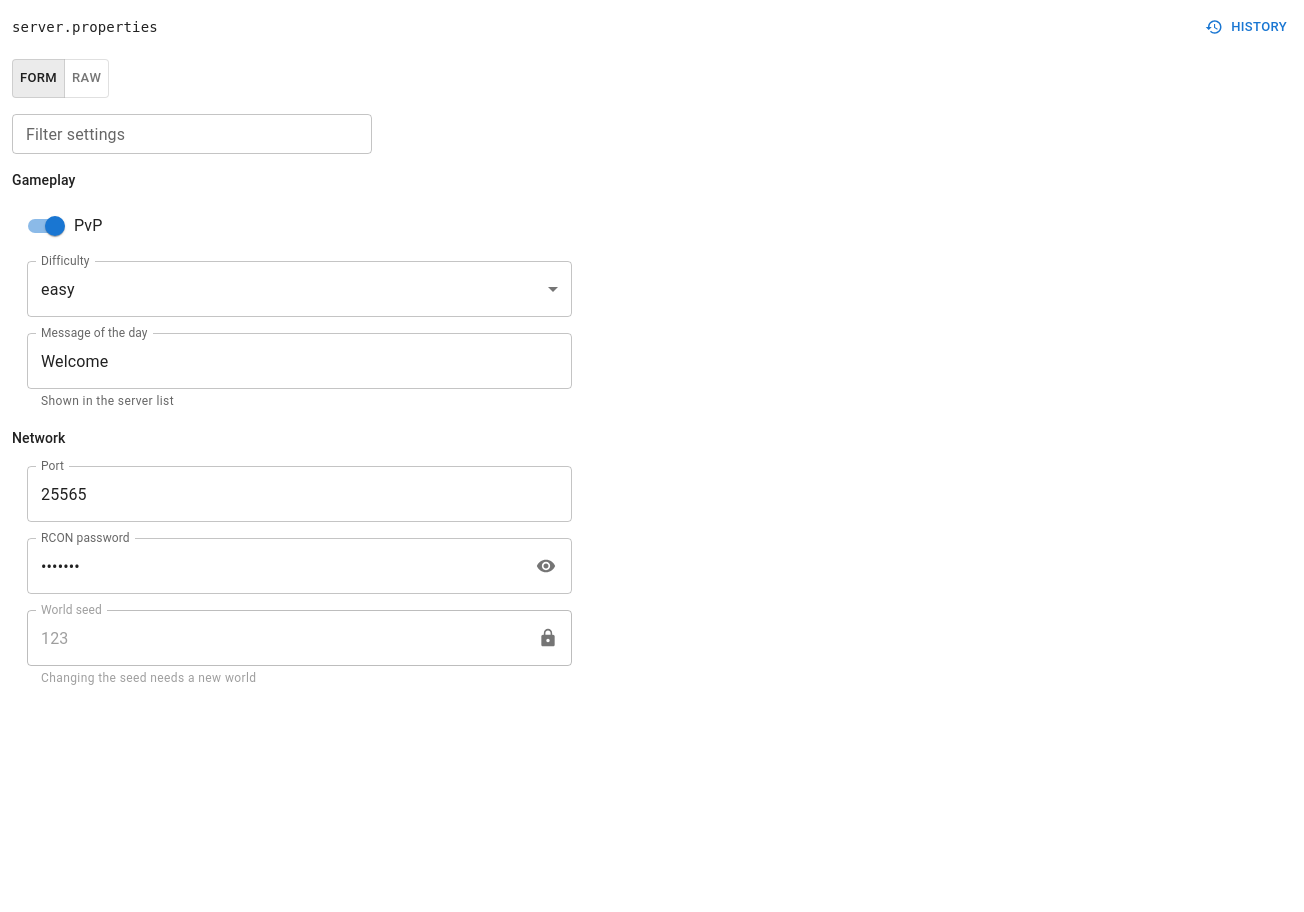
RawSync › a parse error keeps Raw and shows the error
Expected: the switch labelled "PvP" is shown, 28,216 -> 102,236
Click the button "Raw": (87, 78) 64,59 -> 109,98
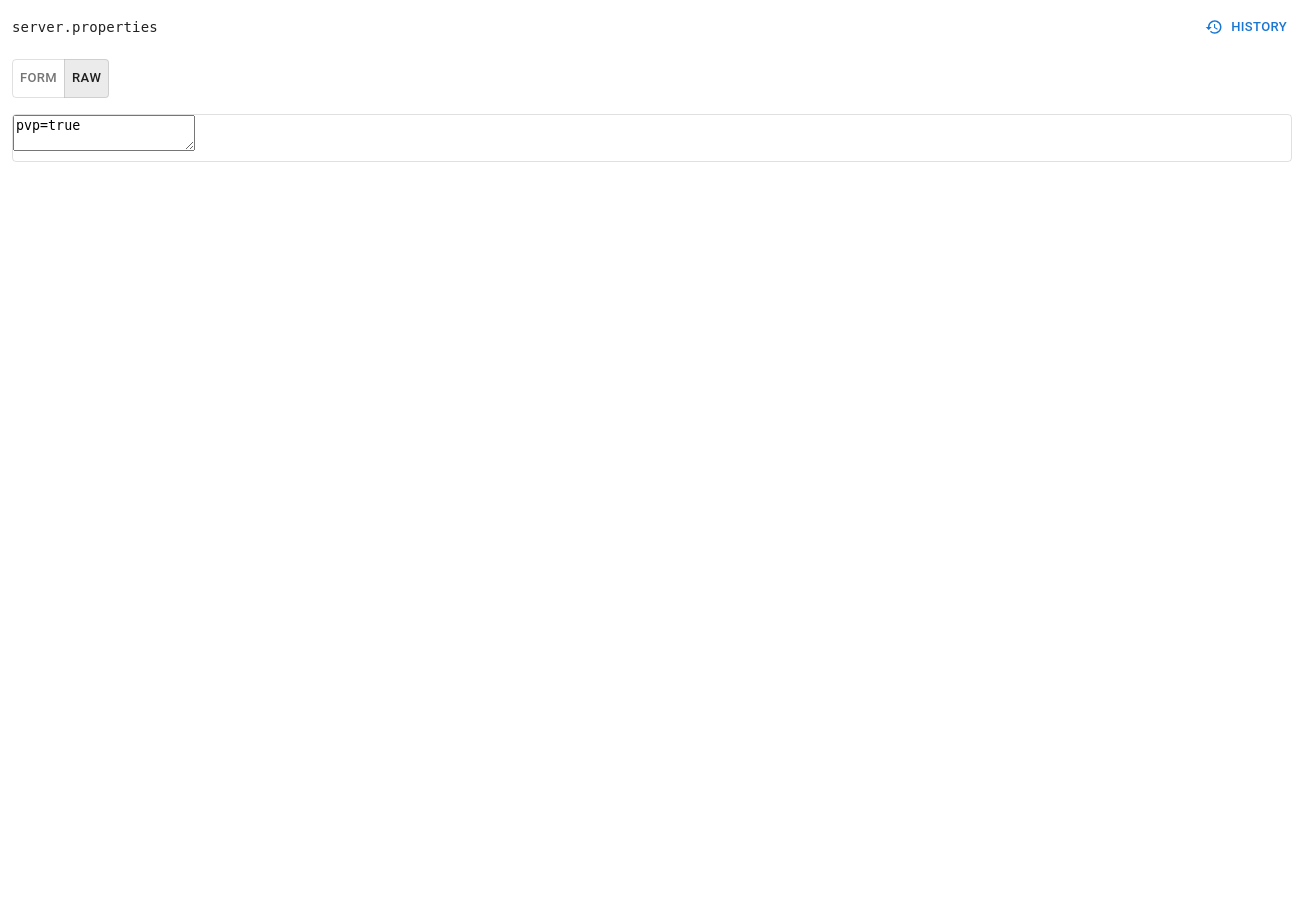
Replace the text in the text box named "Raw text" with "pvp=bad": (104, 132) 13,114 -> 195,150
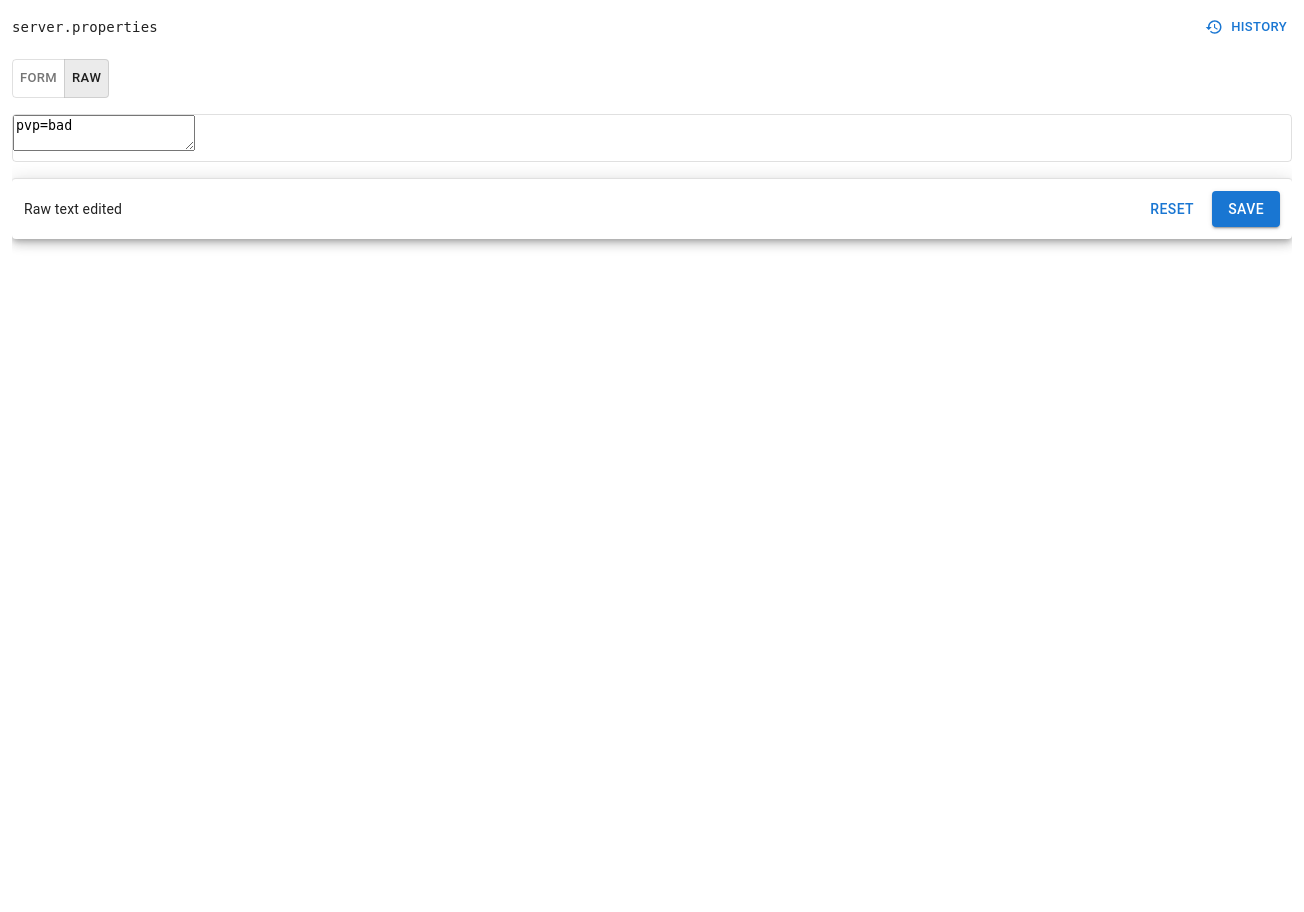
Click the button "Form": (39, 78) 12,59 -> 65,98
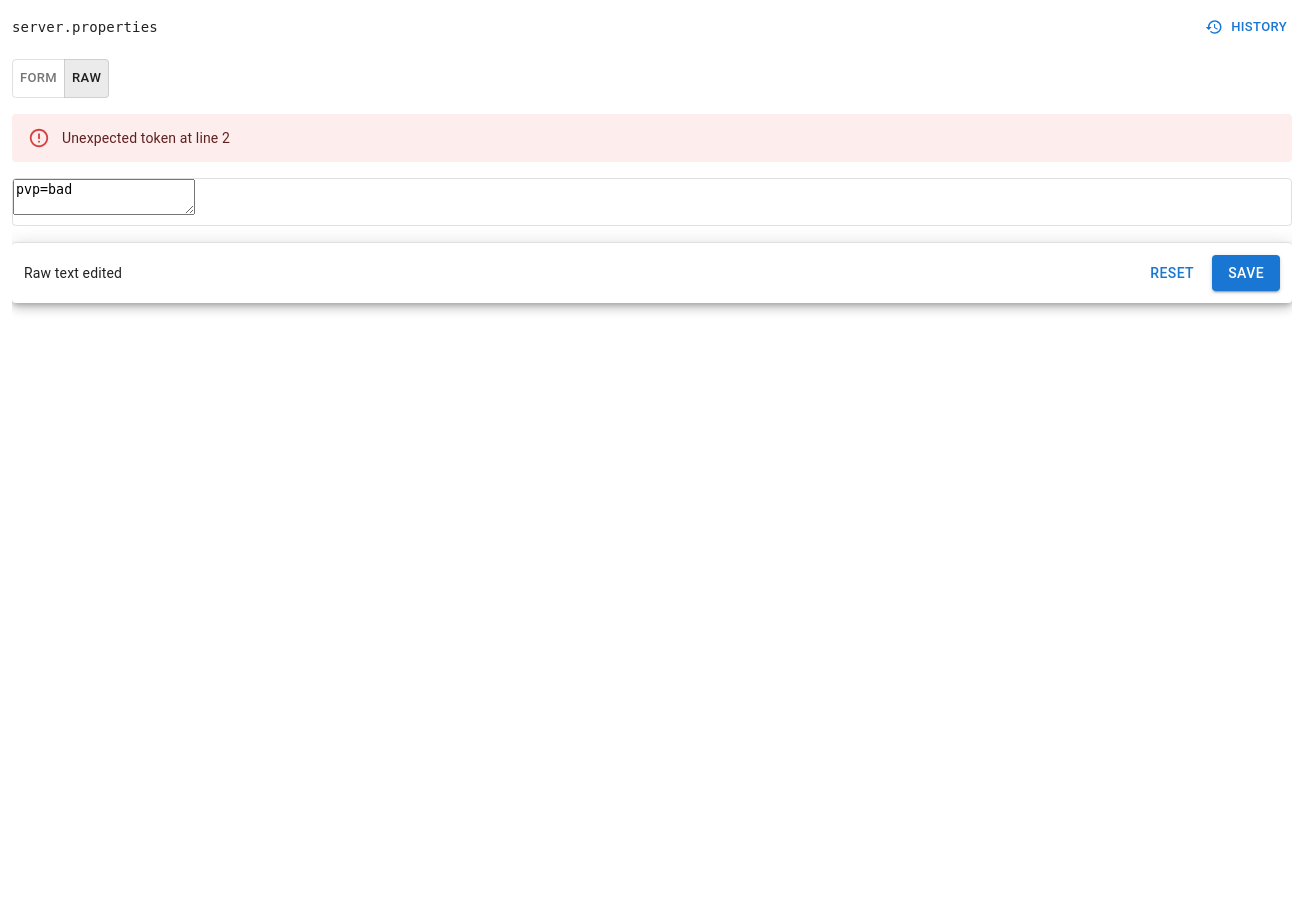
Expected: the text "Unexpected token at line 2" is shown, 62,130 -> 230,146
